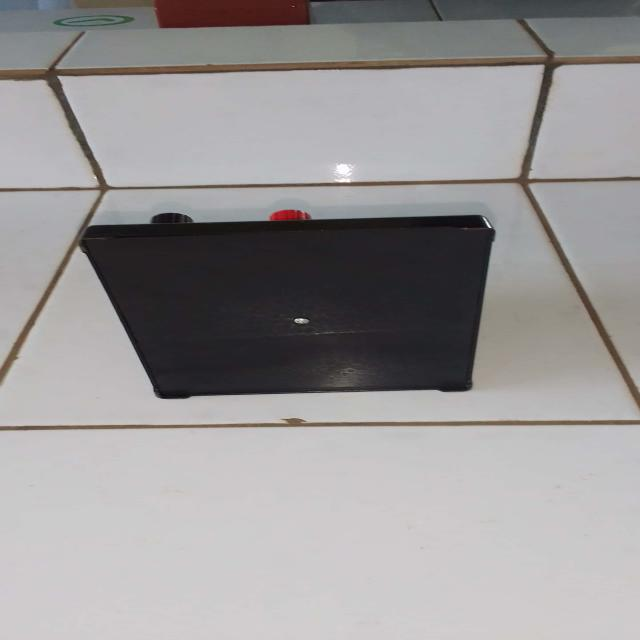Ammeter Analog: (68, 208, 518, 402)
